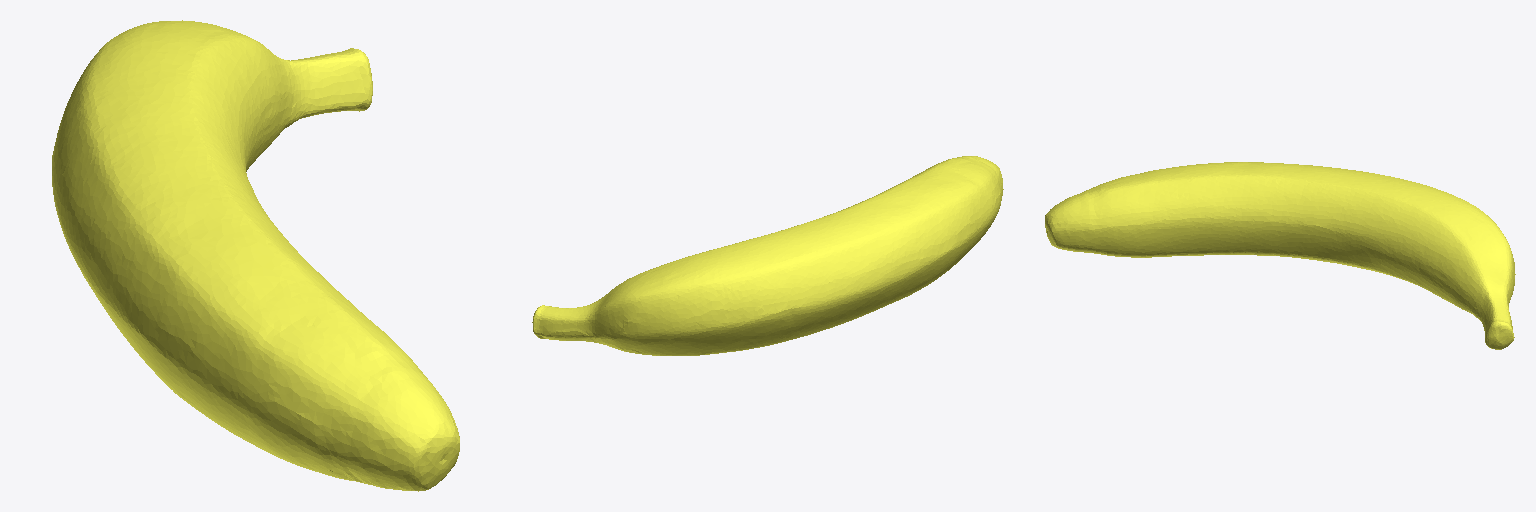
The robot description file, URDF, robot "banana":
<?xml version="0.0" ?>
<!-- based on data/cube.urdf -->
<robot name="banana">
  <mujoco>
      <compiler 
      meshdir="meshes" 
      balanceinertia="true" 
      discardvisual="false" />
  </mujoco>
  <link name="banana">
    <contact>
      <lateral_friction value="0.0"/>
      <rolling_friction value="0.0"/>
      <contact_cfm value="0.0"/>
      <contact_erp value="0.0"/>
    </contact>
    <inertial>
      <origin rpy="0 0 0" xyz="0 0 0"/>
      <mass value="1.0"/>
      <inertia ixx="1" ixy="0" ixz="0" iyy="1" iyz="0" izz="1"/>
    </inertial>
    <visual>
      <origin rpy="0 0 0" xyz="0 0 0"/>
      <geometry>
        <mesh filename="../meshes/banana.stl" scale="1 1 1"/>
      </geometry>
       <material name="yellow">
        <color rgba="1 1 0.4 1"/>
      </material>
    </visual>
    <collision>
      <origin rpy="0 0 0" xyz="0 0 0"/>
      <geometry>
        <mesh filename="../meshes/banana_collision.stl" scale="1 1 1"/>
      </geometry>
    </collision>
  </link>
</robot>

--- Facts derived from the render (not from the file) ---
The picture shows the robot from 3 angles, left to right: view 1: azimuth 30°, elevation 25°; view 2: azimuth 150°, elevation 25°; view 3: azimuth 270°, elevation 25°; orthographic projection.
Model banana with 1 links and 0 joints (none), rooted at banana, posed all joints at 0.
Links seen in each view (by area): view 1: banana; view 2: banana; view 3: banana.
Boxes of the visible links, <box> form: banana: <box>52,20,459,491</box>; banana: <box>532,156,1003,355</box>; banana: <box>1045,162,1515,349</box>.
Size in the robot's own frame: 0.1089 by 0.1784 by 0.0367 metres.
1 mesh visuals loaded from 1 distinct referenced files (1 binary STL).